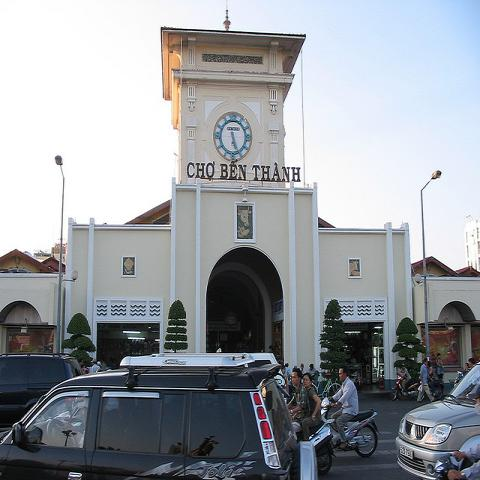car: (1, 352, 314, 476), (395, 362, 479, 479), (0, 355, 83, 424)
motorcycle: (310, 394, 382, 456), (404, 367, 446, 400), (390, 370, 419, 401), (434, 455, 462, 479), (292, 420, 323, 440)
